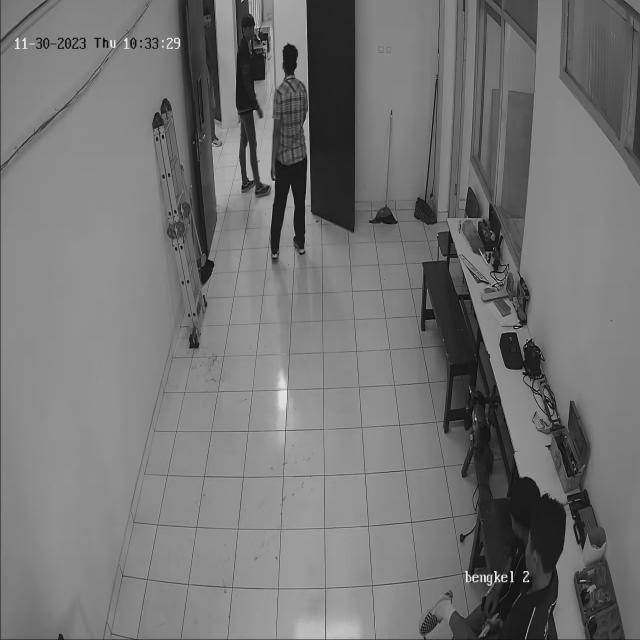person: (271, 46, 310, 250), (235, 5, 265, 212)
